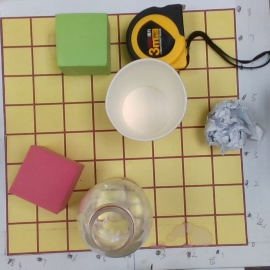bottle: (78, 180, 159, 246)
cup: (105, 58, 187, 143)
